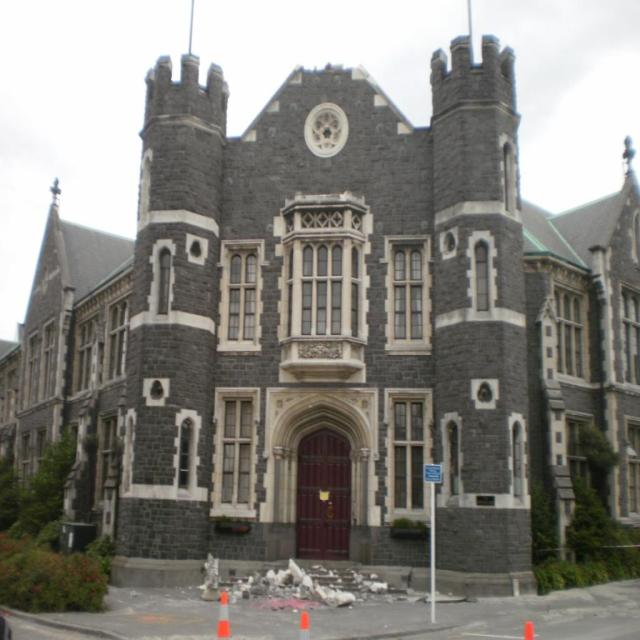damage: (166, 524, 462, 632)
